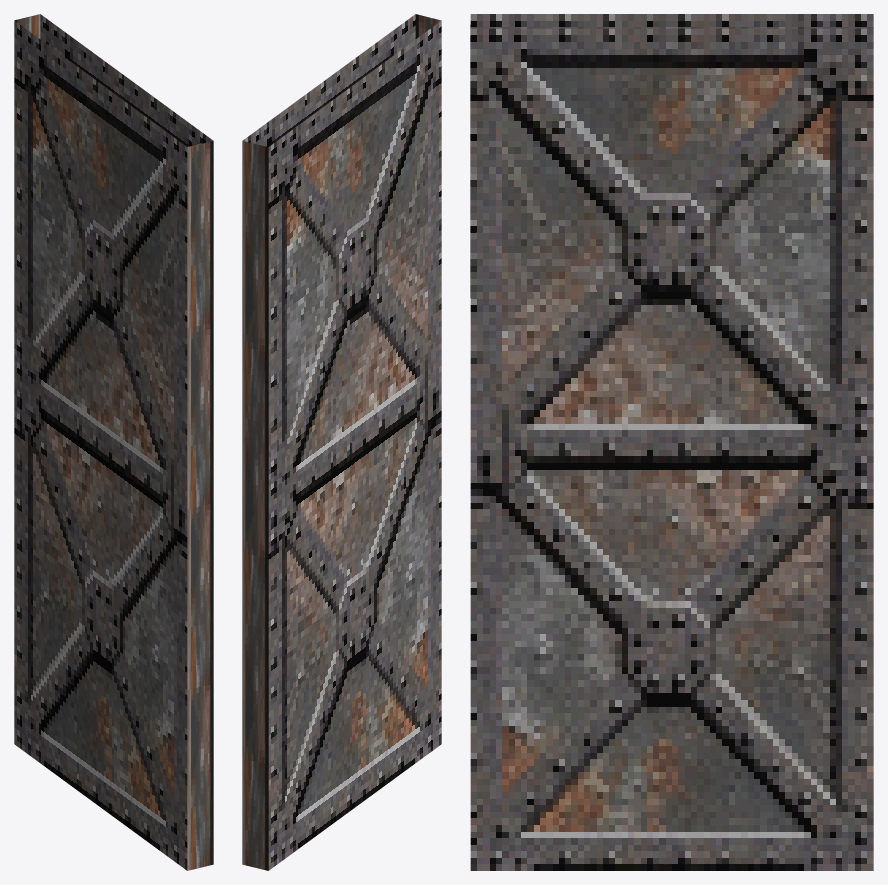
File: primary_129.glb
3 renders of one model, left to right at view 1: azimuth 30°, elevation 25°; view 2: azimuth 150°, elevation 25°; view 3: azimuth 270°, elevation 25°, orthographic. The views are drawn at different scales.
Visible parts, largest first — view 1: Object; view 2: Object; view 3: Object.
Part boxes in pixels (x1,y1,x2,y2): Object: [14, 14, 213, 870]; Object: [242, 14, 441, 870]; Object: [470, 14, 873, 870].
Size of the model in its own units: 0.1035 by 2.74 by 1.19.
Materials: 9 (9 with a texture image).
